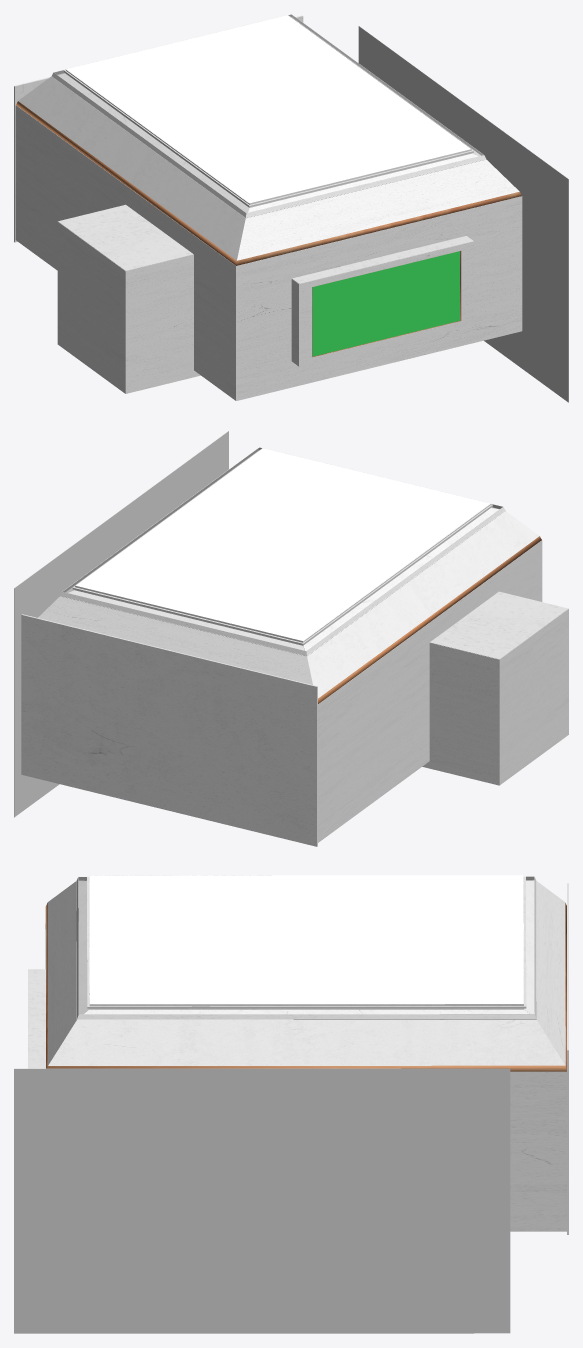
Rendered from salaV5.fbx.
The picture shows the model from 3 angles, top to bottom: view 1: azimuth 30°, elevation 25°; view 2: azimuth 150°, elevation 25°; view 3: azimuth 270°, elevation 25°; orthographic projection. The views are drawn at different scales.
Parts seen in each view (by area): view 1: Modern Living Room, Modern Living Room_Walls_0.001, Cube; view 2: Modern Living Room, Cube, Modern Living Room_Walls_0.001; view 3: Modern Living Room_Backdrop_0.001, Modern Living Room_Walls_0.001, Modern Living Room, Cube.
Part boxes in pixels (left/top/right/bottom): Modern Living Room: left=15, top=14, right=568, bottom=402; Modern Living Room_Walls_0.001: left=66, top=15, right=470, bottom=203; Cube: left=14, top=15, right=303, bottom=242; Modern Living Room: left=14, top=431, right=568, bottom=842; Cube: left=21, top=614, right=317, bottom=846; Modern Living Room_Walls_0.001: left=76, top=448, right=490, bottom=641; Modern Living Room_Backdrop_0.001: left=14, top=1068, right=510, bottom=1333; Modern Living Room_Walls_0.001: left=89, top=875, right=523, bottom=1003; Modern Living Room: left=28, top=875, right=566, bottom=1231; Cube: left=567, top=883, right=568, bottom=1234.
Bounding box in the file's own units: 33.07 × 34.59 × 20.06.
15 materials, 7 textured.
